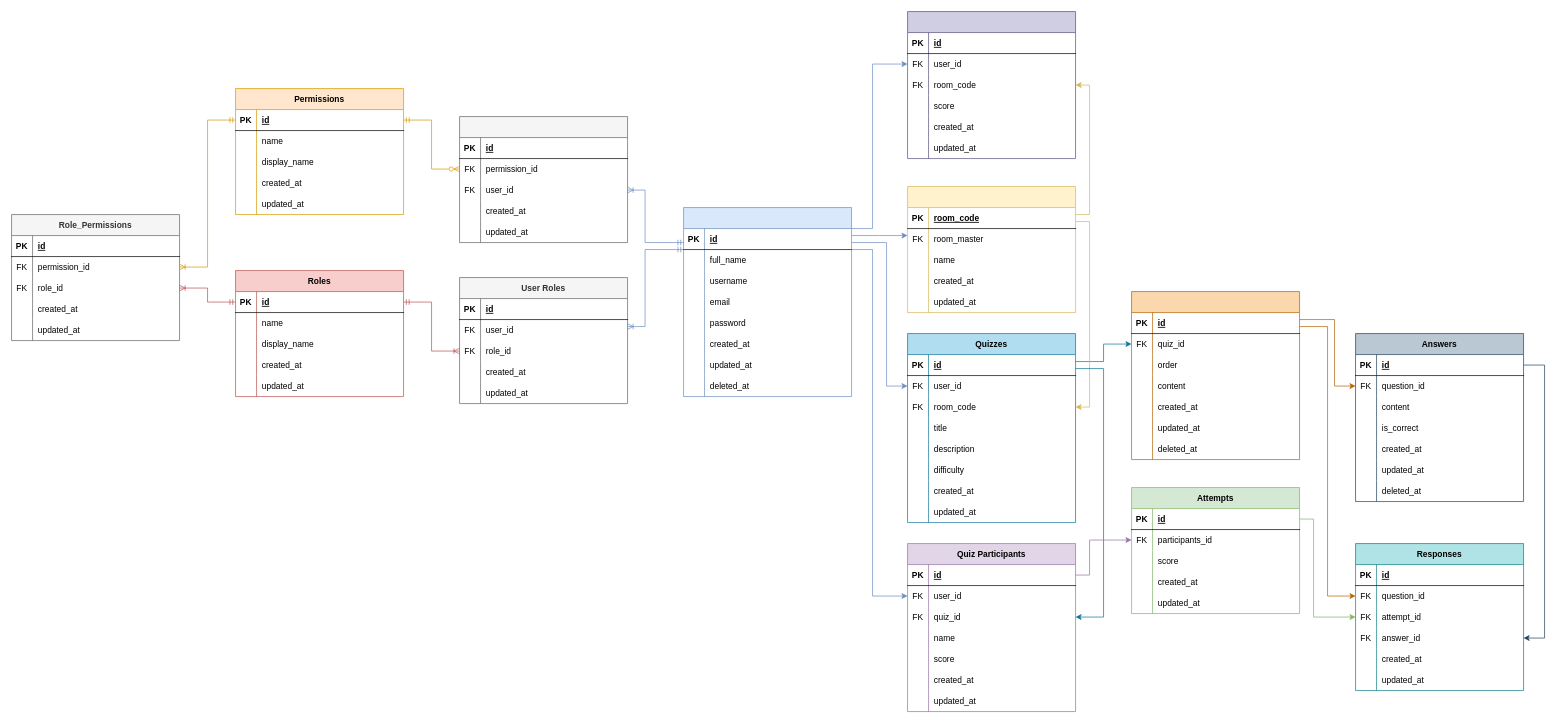
Image size: 1556x723. Some labels were removed from this diagram. The shapes that lost their labels are listed below. From the top down, each one's box as (x1, y1, x2, y2) in pixels, then its label:
(907, 11, 1076, 159): Room Participants
(459, 116, 628, 243): User_Permissions
(907, 186, 1076, 313): Rooms
(683, 207, 852, 397): Users
(1131, 291, 1300, 460): Questions
